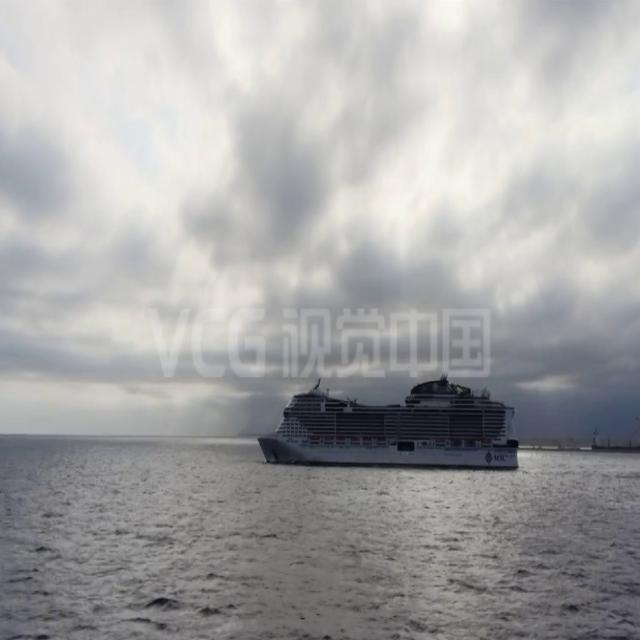passenger ship: (257, 374, 520, 467)
